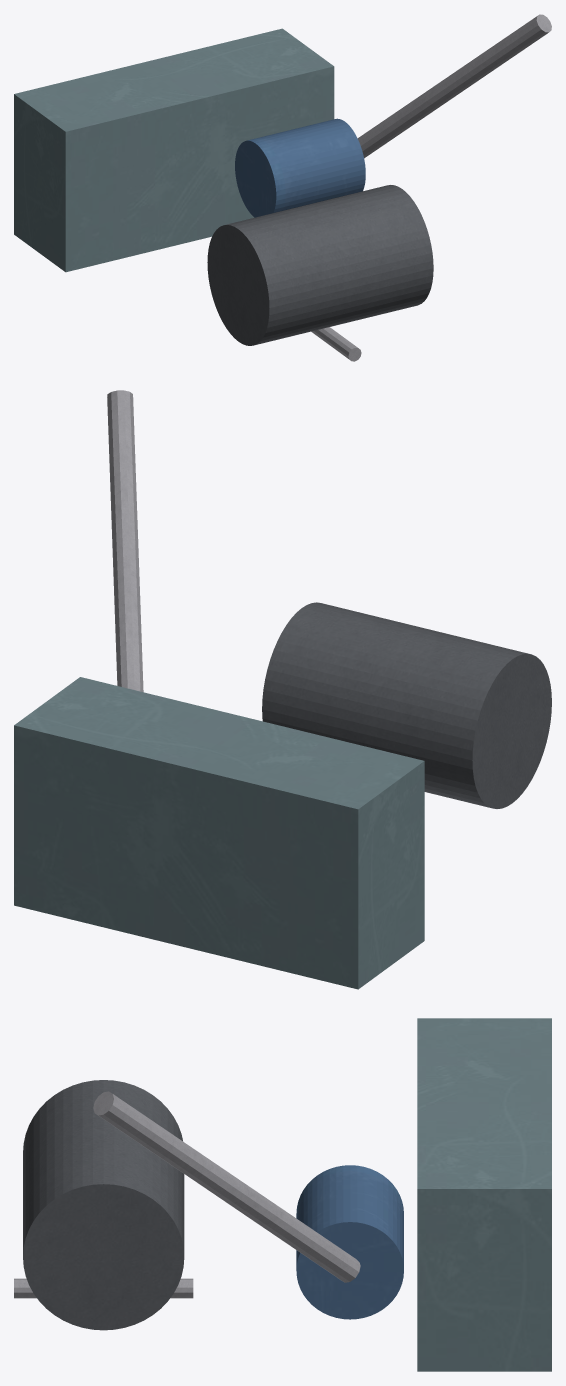
The model's file is cooling_unit.glb.
3 renders of one model, top to bottom at view 1: azimuth 30°, elevation 25°; view 2: azimuth 150°, elevation 25°; view 3: azimuth 270°, elevation 25°, orthographic. The views are drawn at different scales.
Visible parts, largest first — view 1: cooling_unit; view 2: cooling_unit; view 3: cooling_unit.
Boxes of the visible parts, left/top/right/bottom form: cooling_unit: left=14, top=14, right=551, bottom=361; cooling_unit: left=14, top=390, right=551, bottom=989; cooling_unit: left=14, top=1018, right=551, bottom=1371.
Size of the model in its own units: 1.23 by 0.8488 by 1.2.
4 materials, 4 textured.
